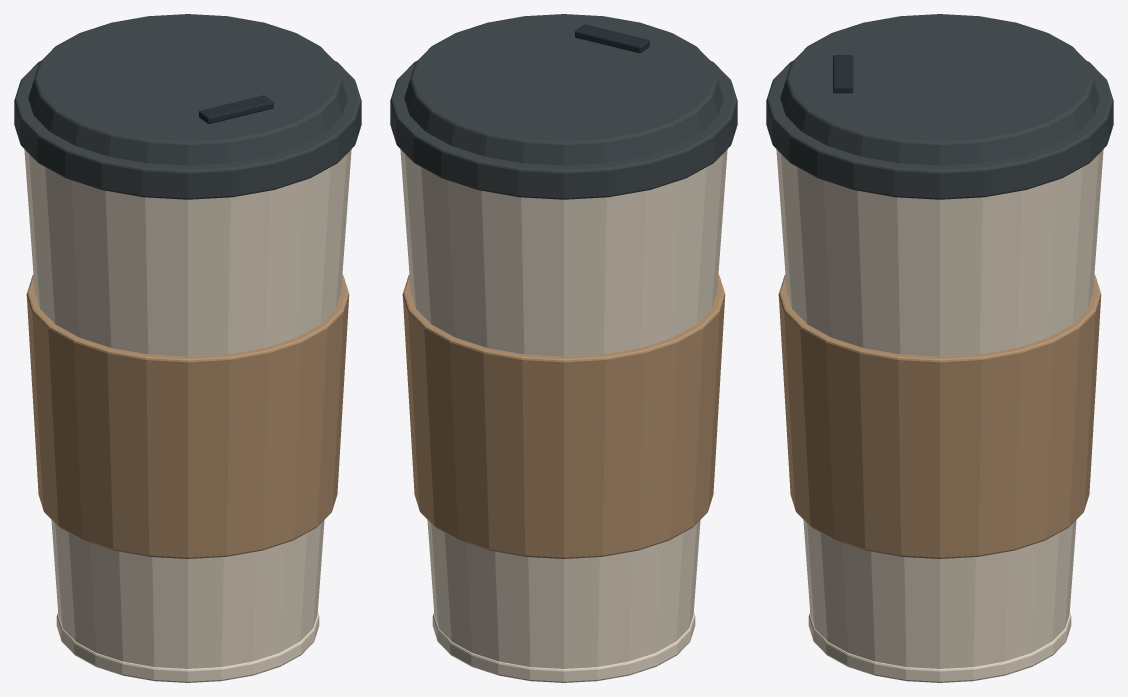
The model's file is takeaway_cup.glb.
3 views of the same model, side by side, from view 1: azimuth 30°, elevation 25°; view 2: azimuth 150°, elevation 25°; view 3: azimuth 270°, elevation 25° (orthographic).
Visible parts, largest first — view 1: MESH_takeaway_cup; view 2: MESH_takeaway_cup; view 3: MESH_takeaway_cup.
Boxes of the visible parts, box(x1,y1,x2,y2) form: MESH_takeaway_cup: box(14, 14, 361, 682); MESH_takeaway_cup: box(390, 14, 737, 682); MESH_takeaway_cup: box(766, 14, 1113, 682).
Size of the model in its own units: 0.086 by 0.1525 by 0.086.
